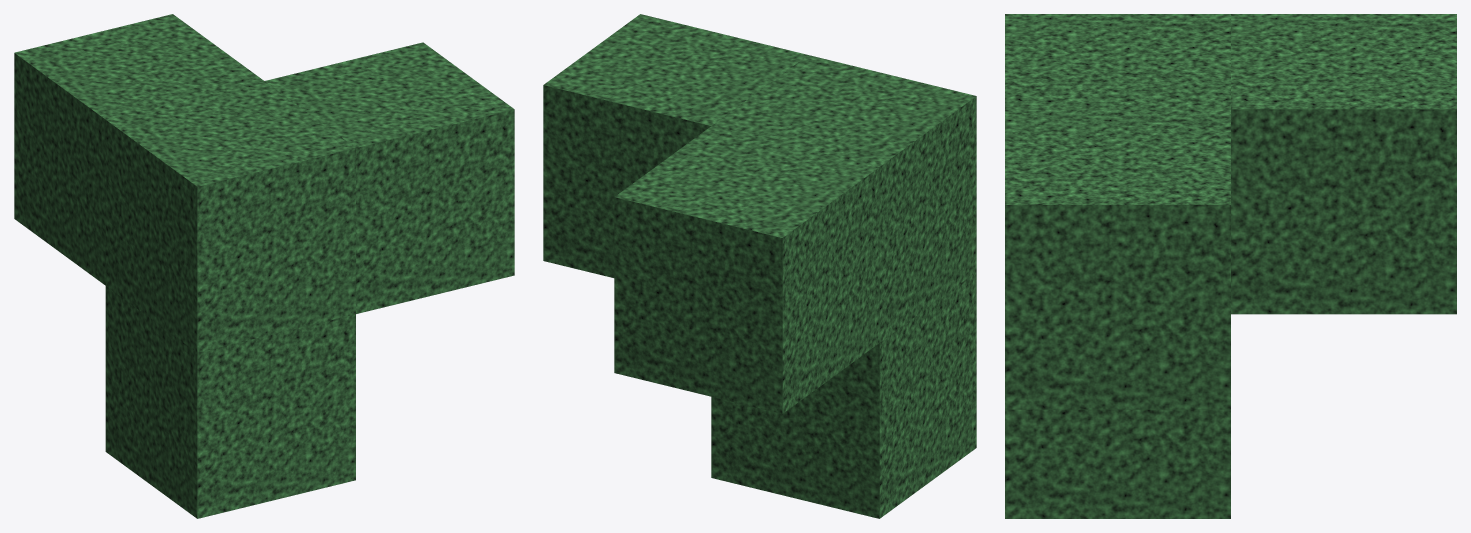
The model's file is puz1.obj.
The picture shows the model from 3 angles, left to right: view 1: azimuth 30°, elevation 25°; view 2: azimuth 150°, elevation 25°; view 3: azimuth 270°, elevation 25°; orthographic projection. The views are drawn at different scales.
Parts seen in each view (by area): view 1: Cube.002_Cube.003; view 2: Cube.002_Cube.003; view 3: Cube.002_Cube.003.
Boxes of the visible parts, x1,y1,x2,y2 form: Cube.002_Cube.003: (14,14,514,518); Cube.002_Cube.003: (543,14,976,518); Cube.002_Cube.003: (1005,14,1456,518).
Bounding box in the file's own units: 4 × 4 × 4.
